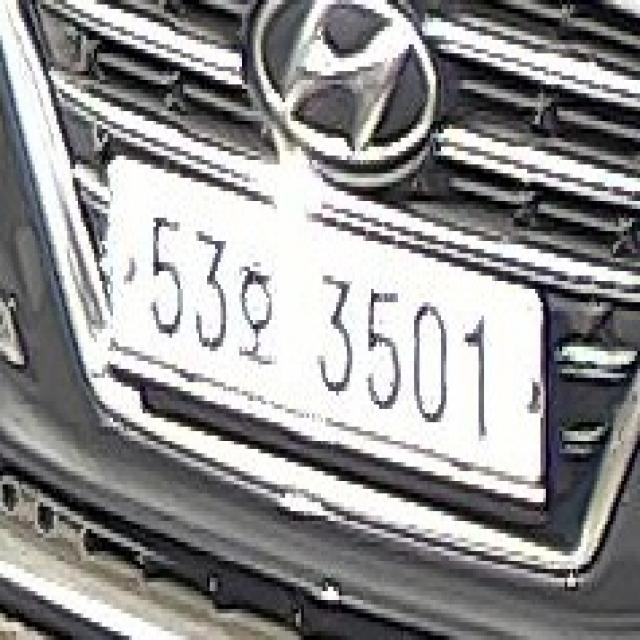0: (411, 271, 452, 440)
1: (460, 311, 503, 440)
3: (188, 213, 229, 369), (314, 258, 350, 404)
5: (360, 254, 406, 436), (140, 200, 185, 338)
ho: (232, 253, 282, 378)
license_plate: (102, 156, 560, 520)
